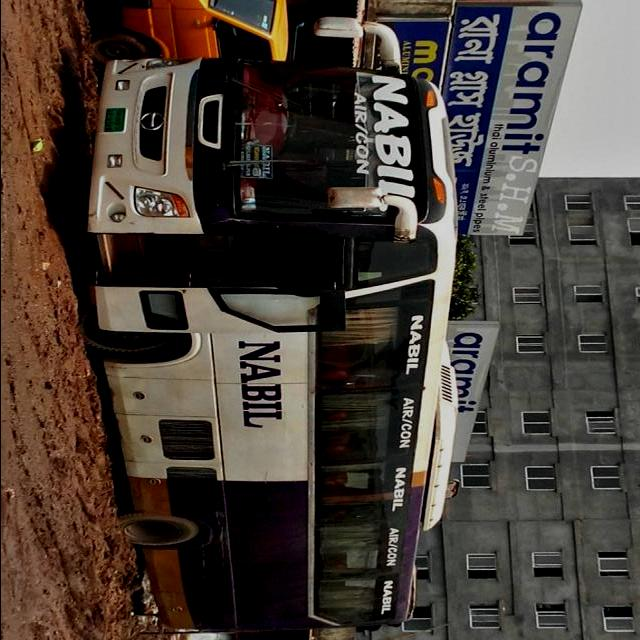bus: (74, 16, 459, 634)
